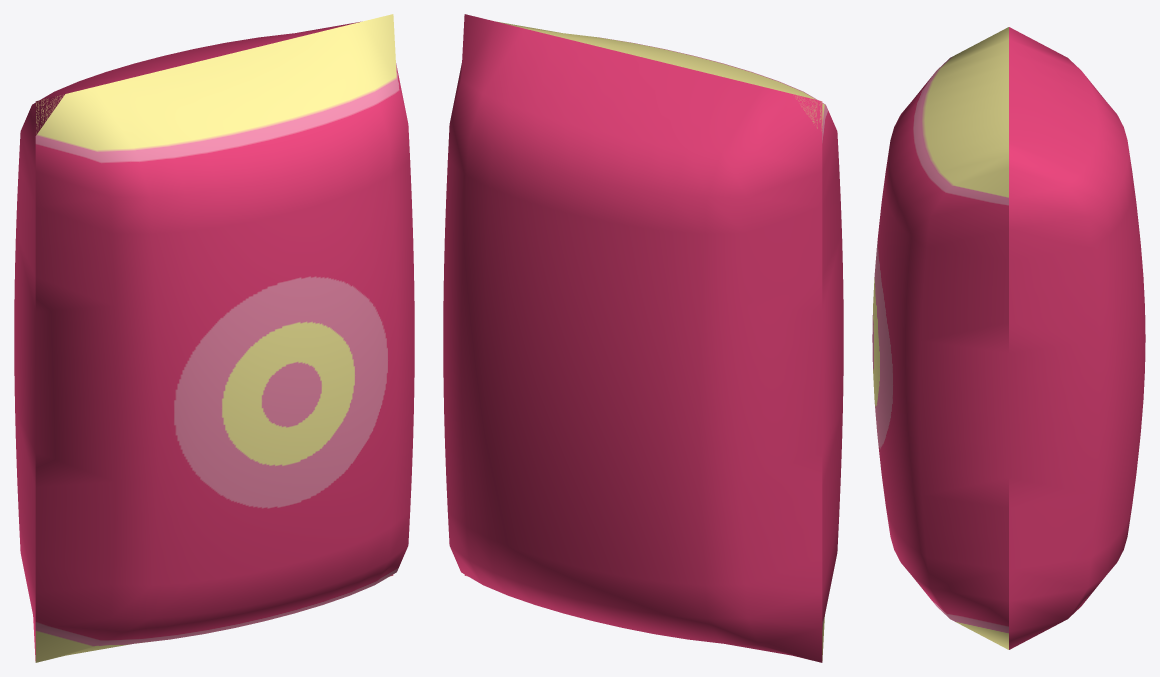
Rendered from Candy.fbx.
The picture shows the model from 3 angles, left to right: view 1: azimuth 30°, elevation 25°; view 2: azimuth 150°, elevation 25°; view 3: azimuth 270°, elevation 25°; orthographic projection. The views are drawn at different scales.
Visible parts, largest first — view 1: Candy; view 2: Candy; view 3: Candy.
Part boxes in pixels (x1,y1,x2,y2): Candy: (14, 14, 414, 662); Candy: (443, 14, 843, 662); Candy: (872, 27, 1145, 649).
Bounding box in the file's own units: 0.1 × 0.15 × 0.075.
Materials: 2 (1 with a texture image).
